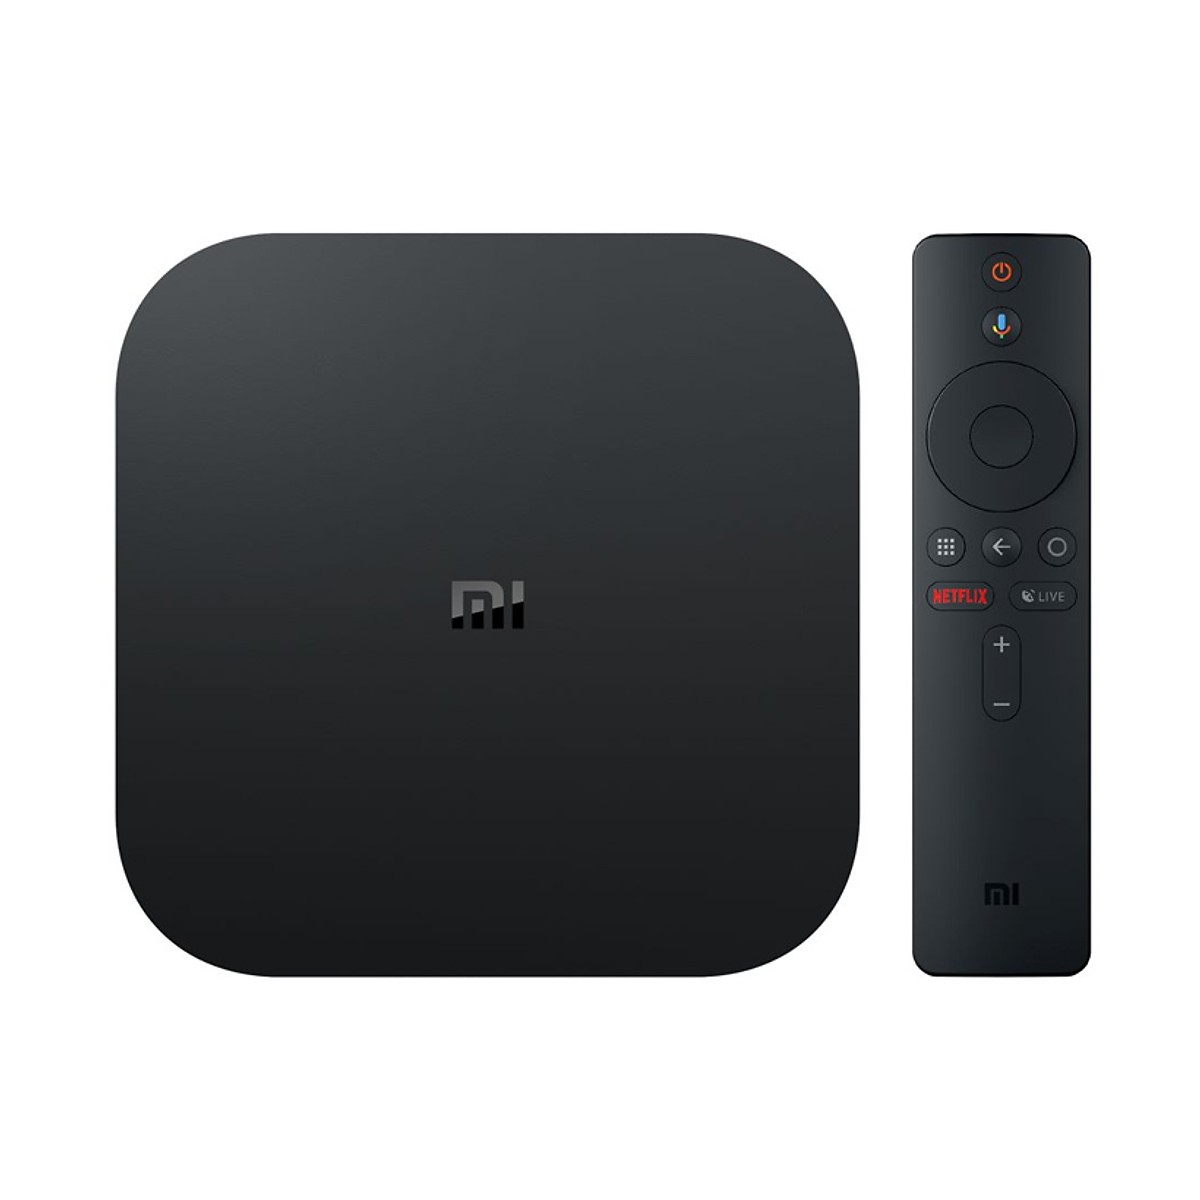Xiaomi: (366, 527, 714, 762)
